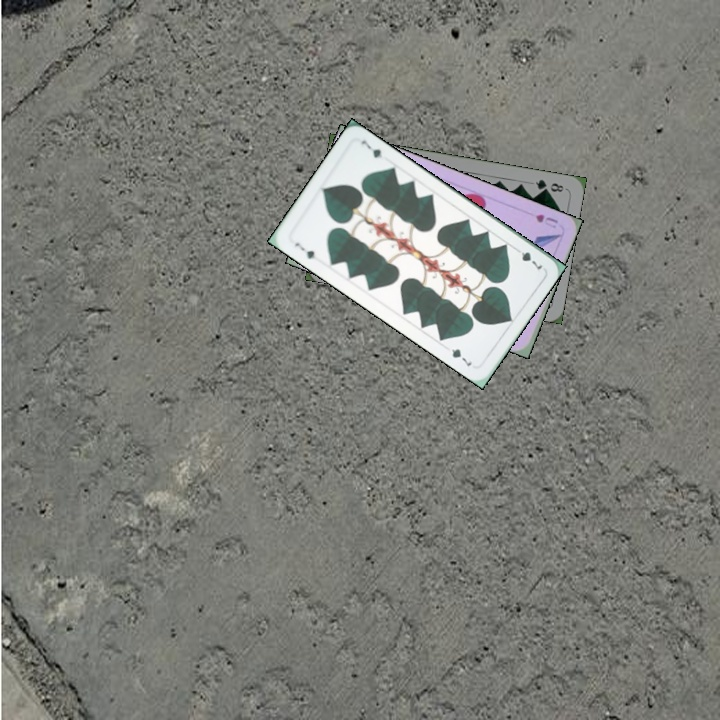G7: (510, 243, 545, 273), (290, 238, 318, 262)
G8: (531, 175, 566, 195)
HU: (531, 210, 561, 231)
